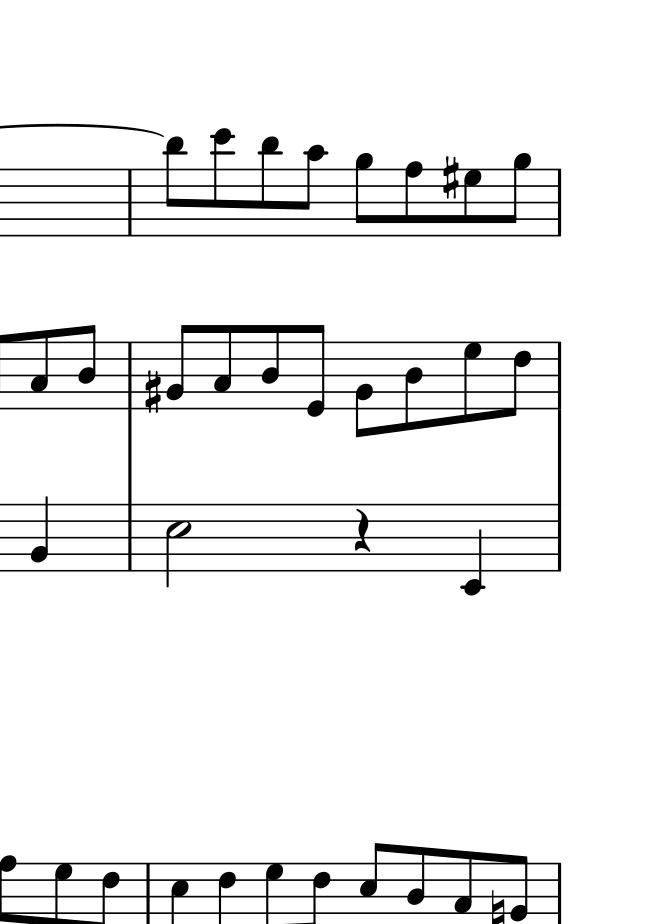2_5: (165, 500, 192, 590)
4_-2: (463, 502, 485, 595)
4_2: (31, 494, 53, 576)
8_0: (303, 323, 327, 418)
8_10: (295, 144, 327, 241)
8_11: (163, 133, 188, 238), (257, 135, 280, 239)
8_12: (210, 127, 237, 239)
8_2: (166, 323, 198, 412), (353, 337, 379, 440)
8_3: (211, 323, 234, 413), (30, 328, 52, 413)
8_4: (403, 338, 427, 433), (259, 323, 283, 413), (77, 323, 98, 413)
8_6: (505, 340, 534, 420)
8_7: (459, 341, 483, 426), (461, 168, 484, 240)
8_8: (402, 161, 426, 239)
8_9: (502, 152, 532, 239), (353, 152, 376, 240)
Rests4: (351, 505, 372, 552)
Sharp: (439, 151, 460, 201), (142, 369, 162, 412)
Slur: (545, 342, 572, 409), (543, 169, 567, 238), (544, 503, 568, 571), (118, 505, 142, 572), (119, 169, 142, 236)
